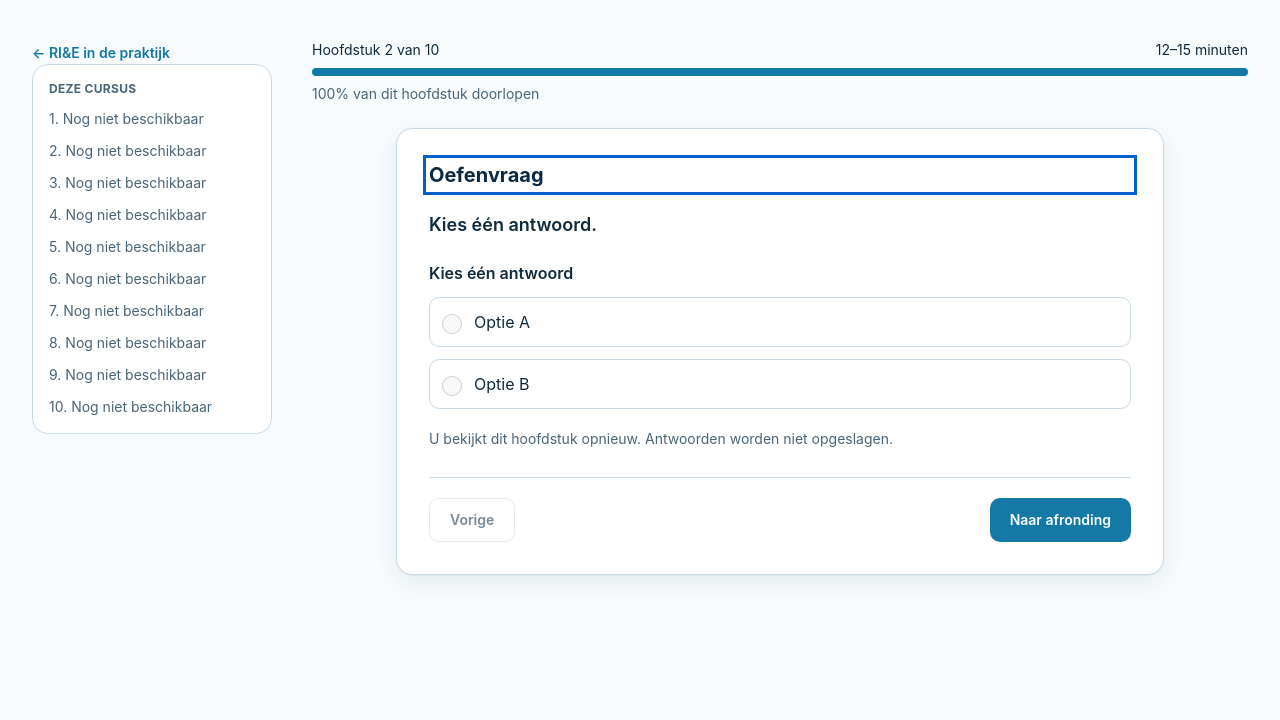
Test: Learning-contentrenderer › laat een afgerond hoofdstuk alleen lezen, zonder antwoorden of afronding te schrijven
expect the radio button labelled "Optie A" is disabled: met, box [442, 314, 462, 334]
expect the radio button labelled "Optie B" is disabled: met, box [442, 376, 462, 396]
Click the button "Naar afronding". click: (1060, 520)
box: [990, 498, 1131, 542]
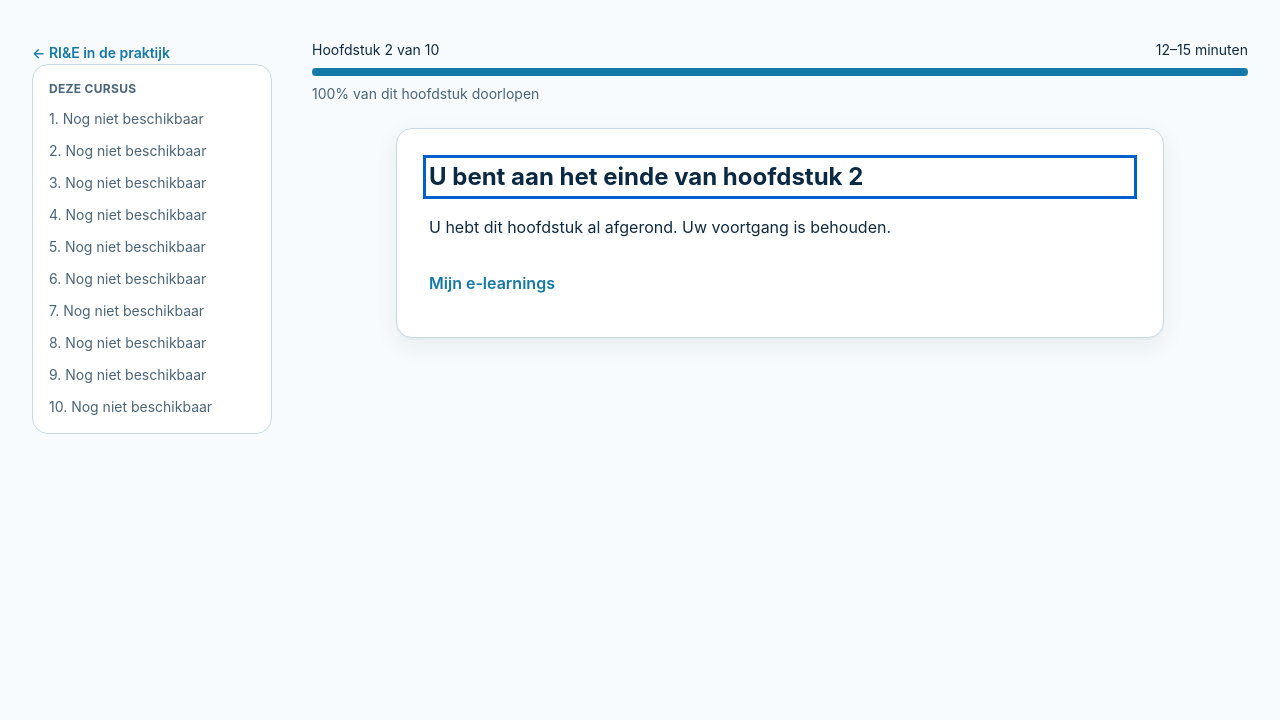
expect the text "U hebt dit hoofdstuk al afgerond. Uw voortgang is behouden." is shown: met, box [429, 217, 891, 237]
